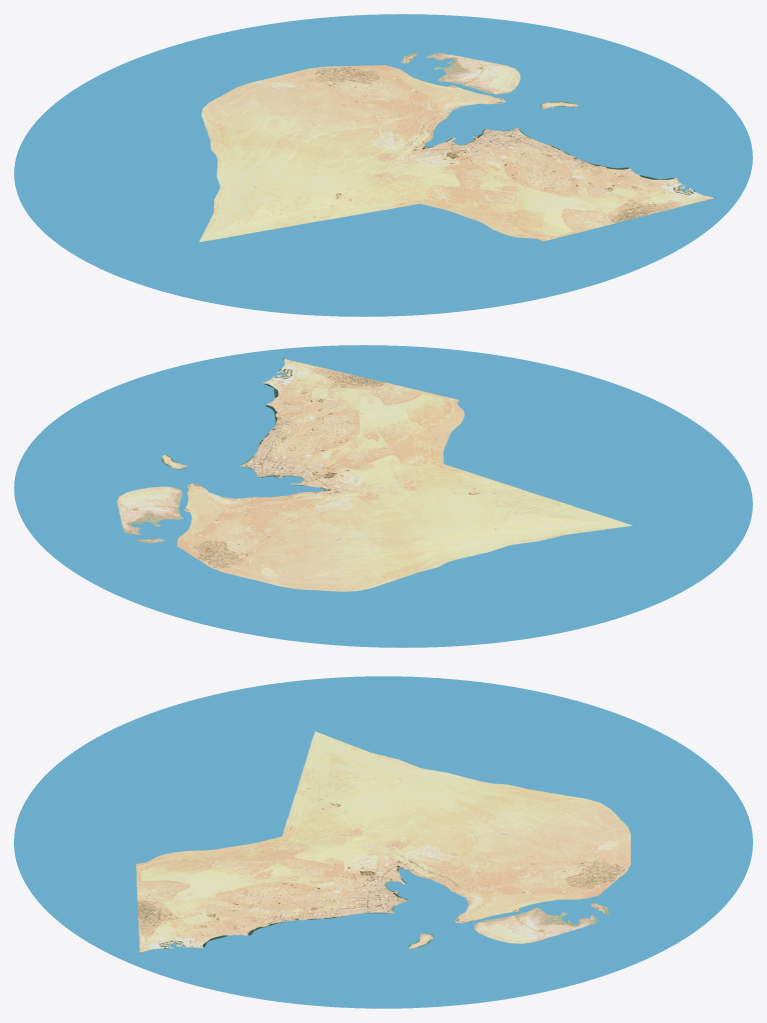
Rendered from KWT-previa-terrain.glb.
The picture shows the model from 3 angles, top to bottom: view 1: azimuth 30°, elevation 25°; view 2: azimuth 150°, elevation 25°; view 3: azimuth 270°, elevation 25°; orthographic projection. The views are drawn at different scales.
Visible parts, largest first — view 1: Kuwait; view 2: Kuwait; view 3: Kuwait.
Part boxes in pixels (left/top/right/bottom): Kuwait: left=14, top=14, right=752, bottom=316; Kuwait: left=14, top=345, right=752, bottom=647; Kuwait: left=14, top=676, right=752, bottom=1008.
Size of the model in its own units: 2.64 by 0.0142 by 2.48.
Materials: 1 (1 with a texture image).
